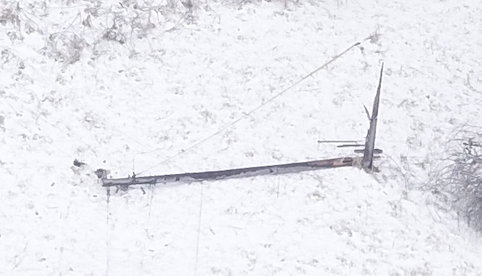pole: (65, 52, 423, 216)
